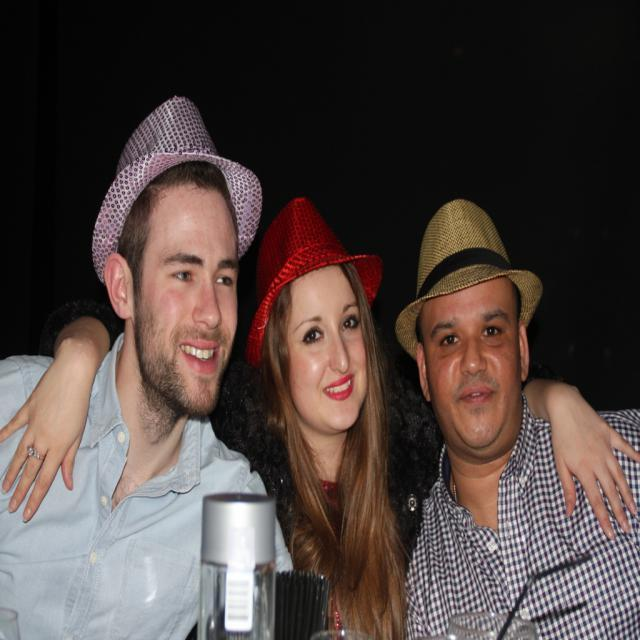closed-mouth: (456, 384, 496, 406)
